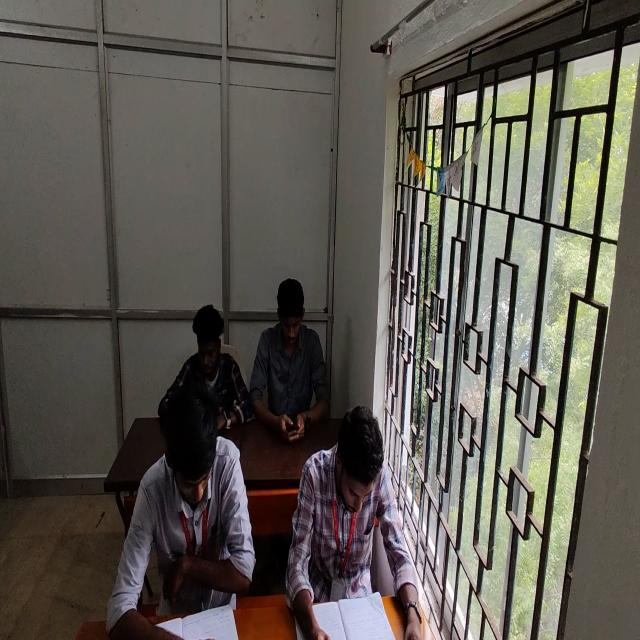reading: (88, 372, 265, 640), (274, 372, 437, 640)
using_mobile: (151, 269, 259, 433), (243, 261, 334, 451)
